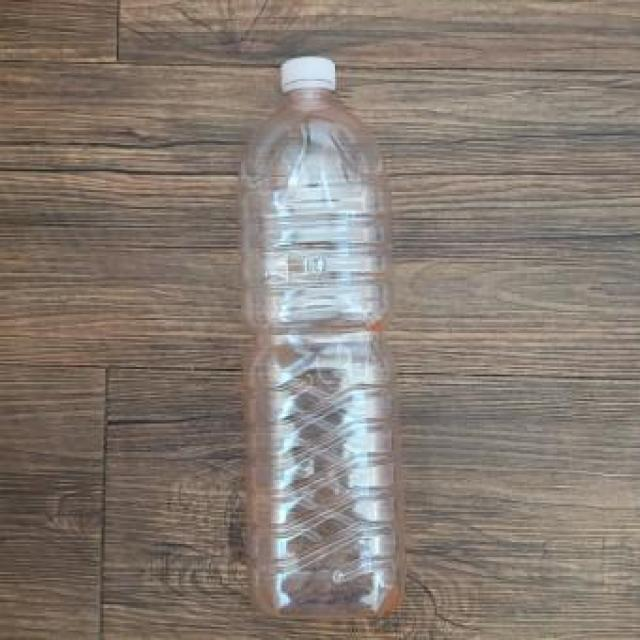bottle: (241, 55, 408, 621)
